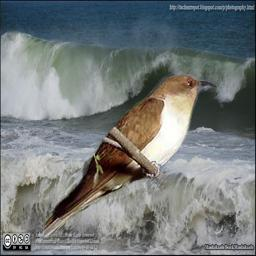Cuckoo: (44, 72, 218, 240)
